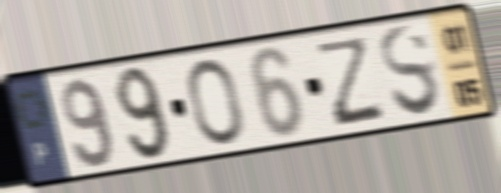6: (248, 42, 308, 145)
9: (111, 64, 173, 164), (59, 74, 117, 170)
O: (185, 56, 247, 148)
S: (376, 22, 444, 121)
Z: (315, 32, 387, 130)
